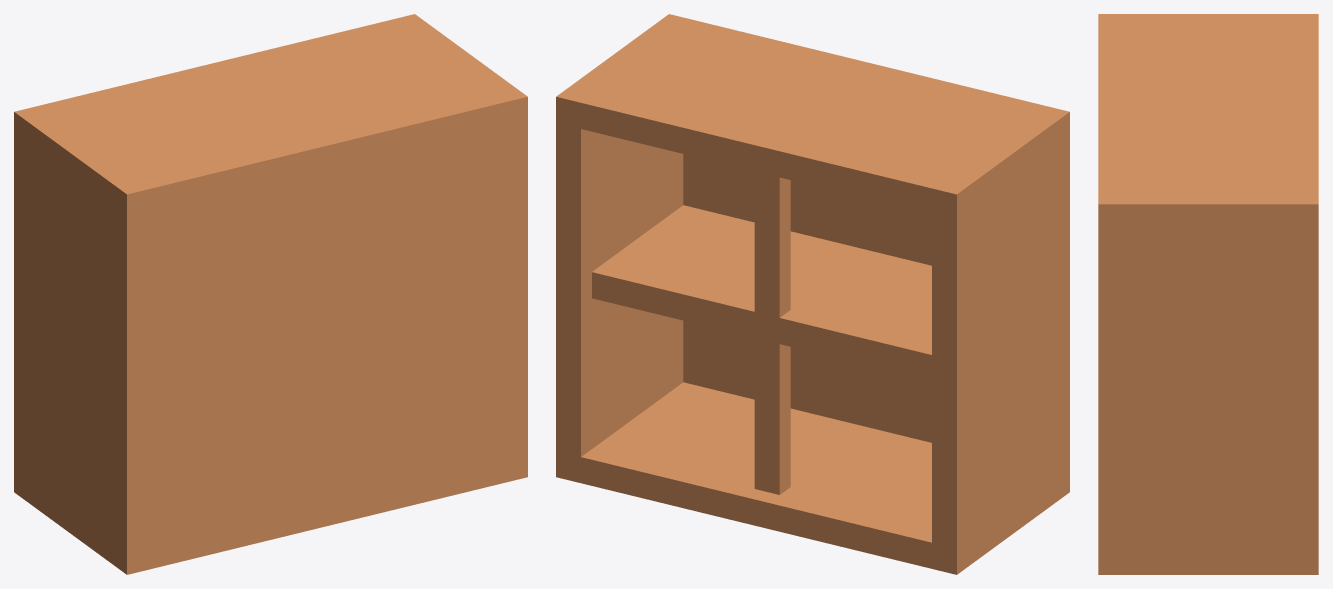
Rendered from KitchenCabinetUpperDouble.glb.
The picture shows the model from 3 angles, left to right: view 1: azimuth 30°, elevation 25°; view 2: azimuth 150°, elevation 25°; view 3: azimuth 270°, elevation 25°; orthographic projection. The views are drawn at different scales.
Visible parts, largest first — view 1: KitchenCabinetUpperDouble; view 2: KitchenCabinetUpperDouble; view 3: KitchenCabinetUpperDouble.
Part boxes in pixels (x1=…): KitchenCabinetUpperDouble: x1=14, y1=14, x2=527, y2=574; KitchenCabinetUpperDouble: x1=556, y1=14, x2=1069, y2=574; KitchenCabinetUpperDouble: x1=1098, y1=14, x2=1318, y2=574.
Bounding box in the file's own units: 0.9949 × 0.9023 × 0.4859.
